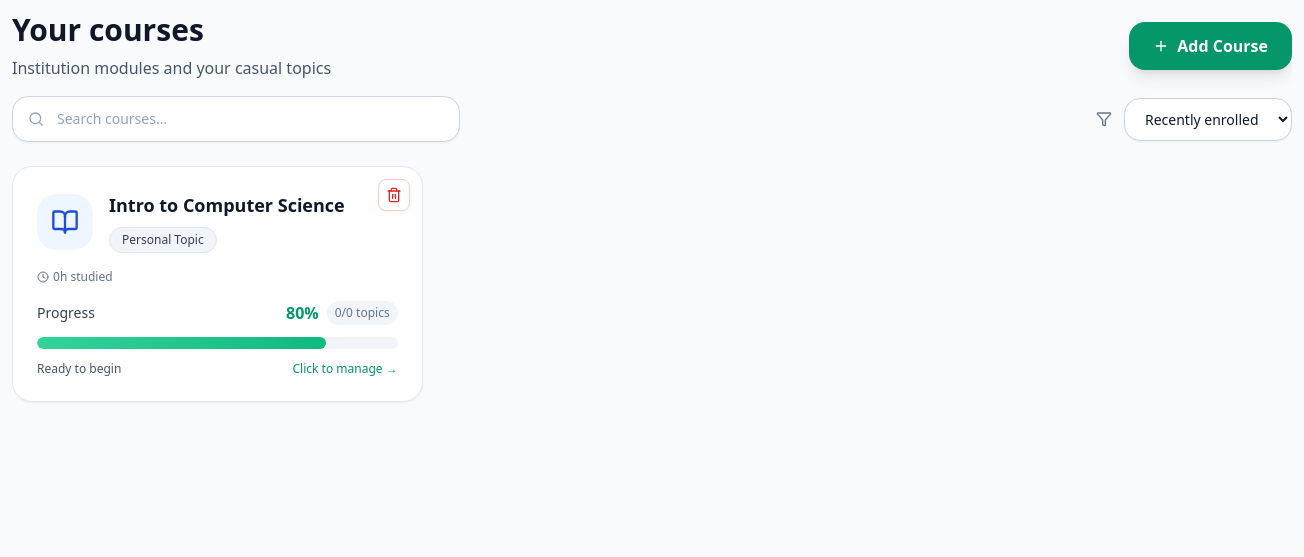
Scenario: CoursesPage - Course Management › handles remove course error
Check: the heading "Intro to Computer Science" is shown, box top-left (109, 193), bottom-right (345, 217)
Step 1. Click the button named "Remove" → point(394, 195), box top-left (378, 179), bottom-right (410, 211)
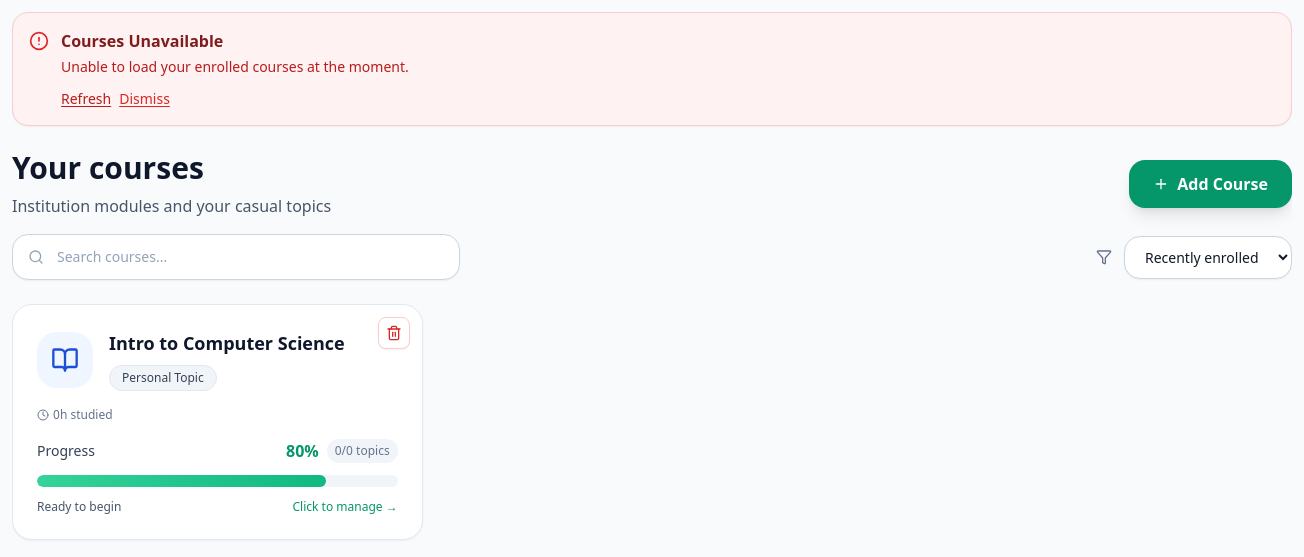
Check: the heading "Courses Unavailable" is shown, box top-left (61, 30), bottom-right (223, 52)
